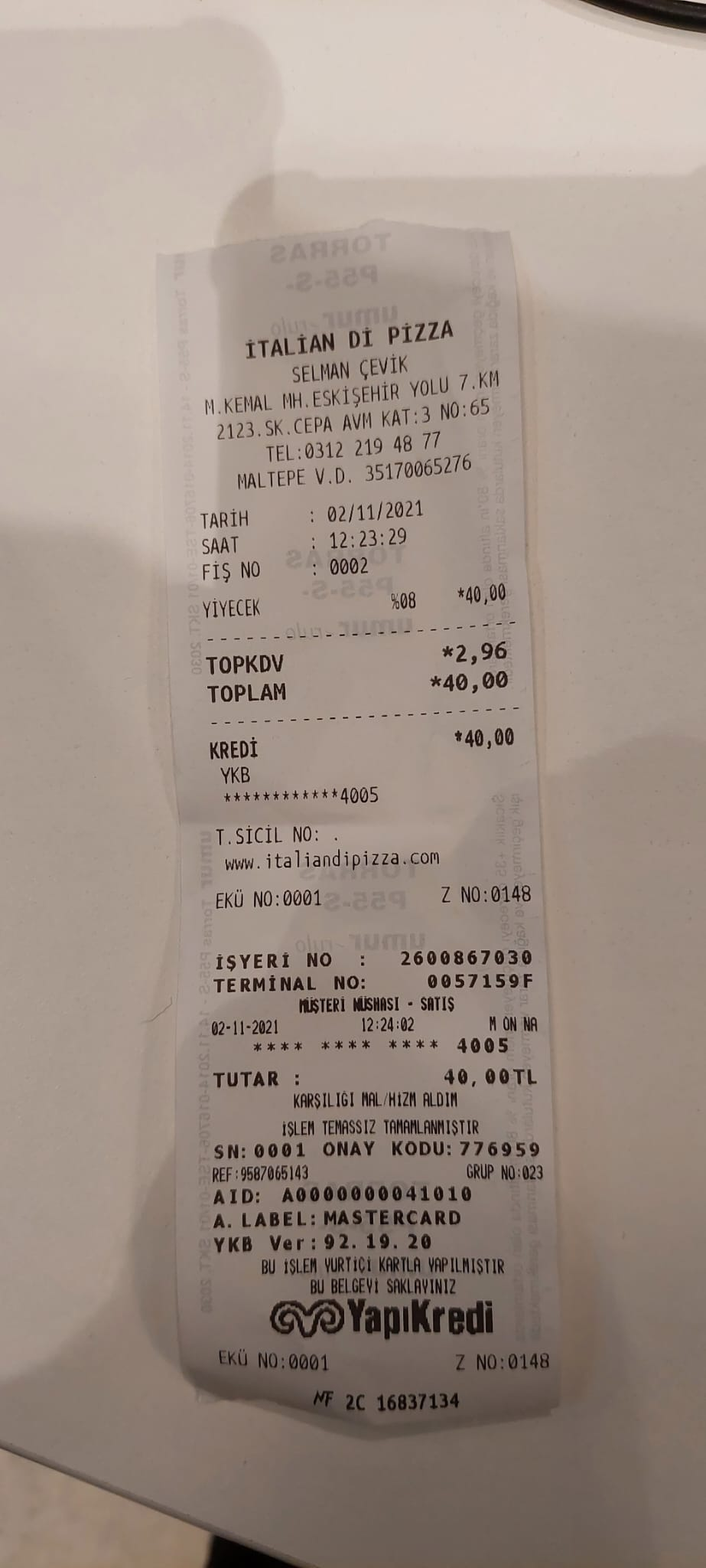date: (321, 493, 432, 527)
price: (436, 666, 519, 704)
workplace: (191, 313, 516, 439)
